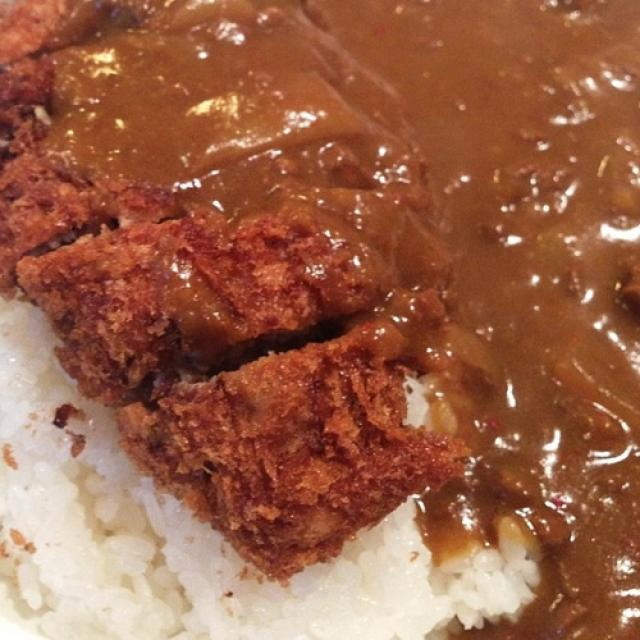炸货点心: (5, 5, 635, 636)
